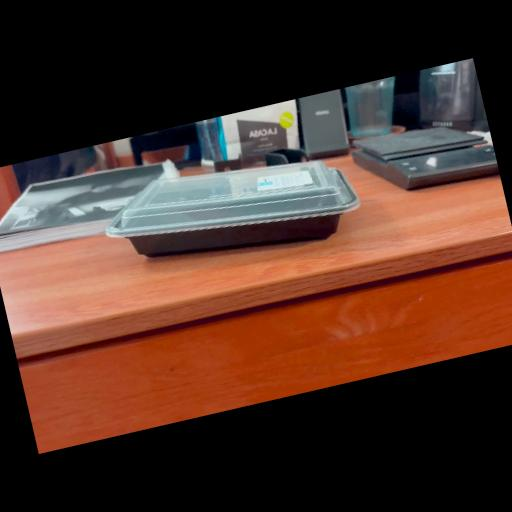rigid_plastic_container: (120, 124, 368, 288)
